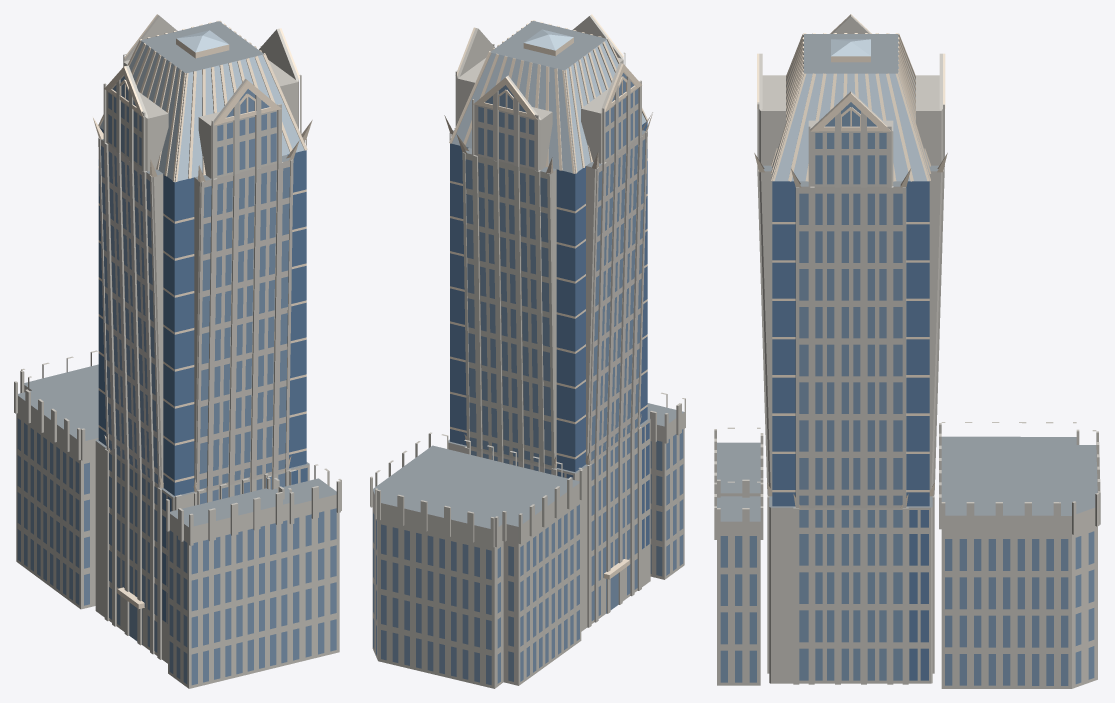
File: truist-center-charlotte.glb
The picture shows the model from 3 angles, left to right: view 1: azimuth 30°, elevation 25°; view 2: azimuth 150°, elevation 25°; view 3: azimuth 270°, elevation 25°; orthographic projection. The views are drawn at different scales.
Parts seen in each view (by area): view 1: Truist Center; view 2: Truist Center; view 3: Truist Center.
Boxes of the visible parts, <box> form: Truist Center: <box>14,14,341,688</box>; Truist Center: <box>370,14,685,688</box>; Truist Center: <box>714,14,1100,688</box>.
Size of the model in its own units: 57.8 by 200 by 115.
